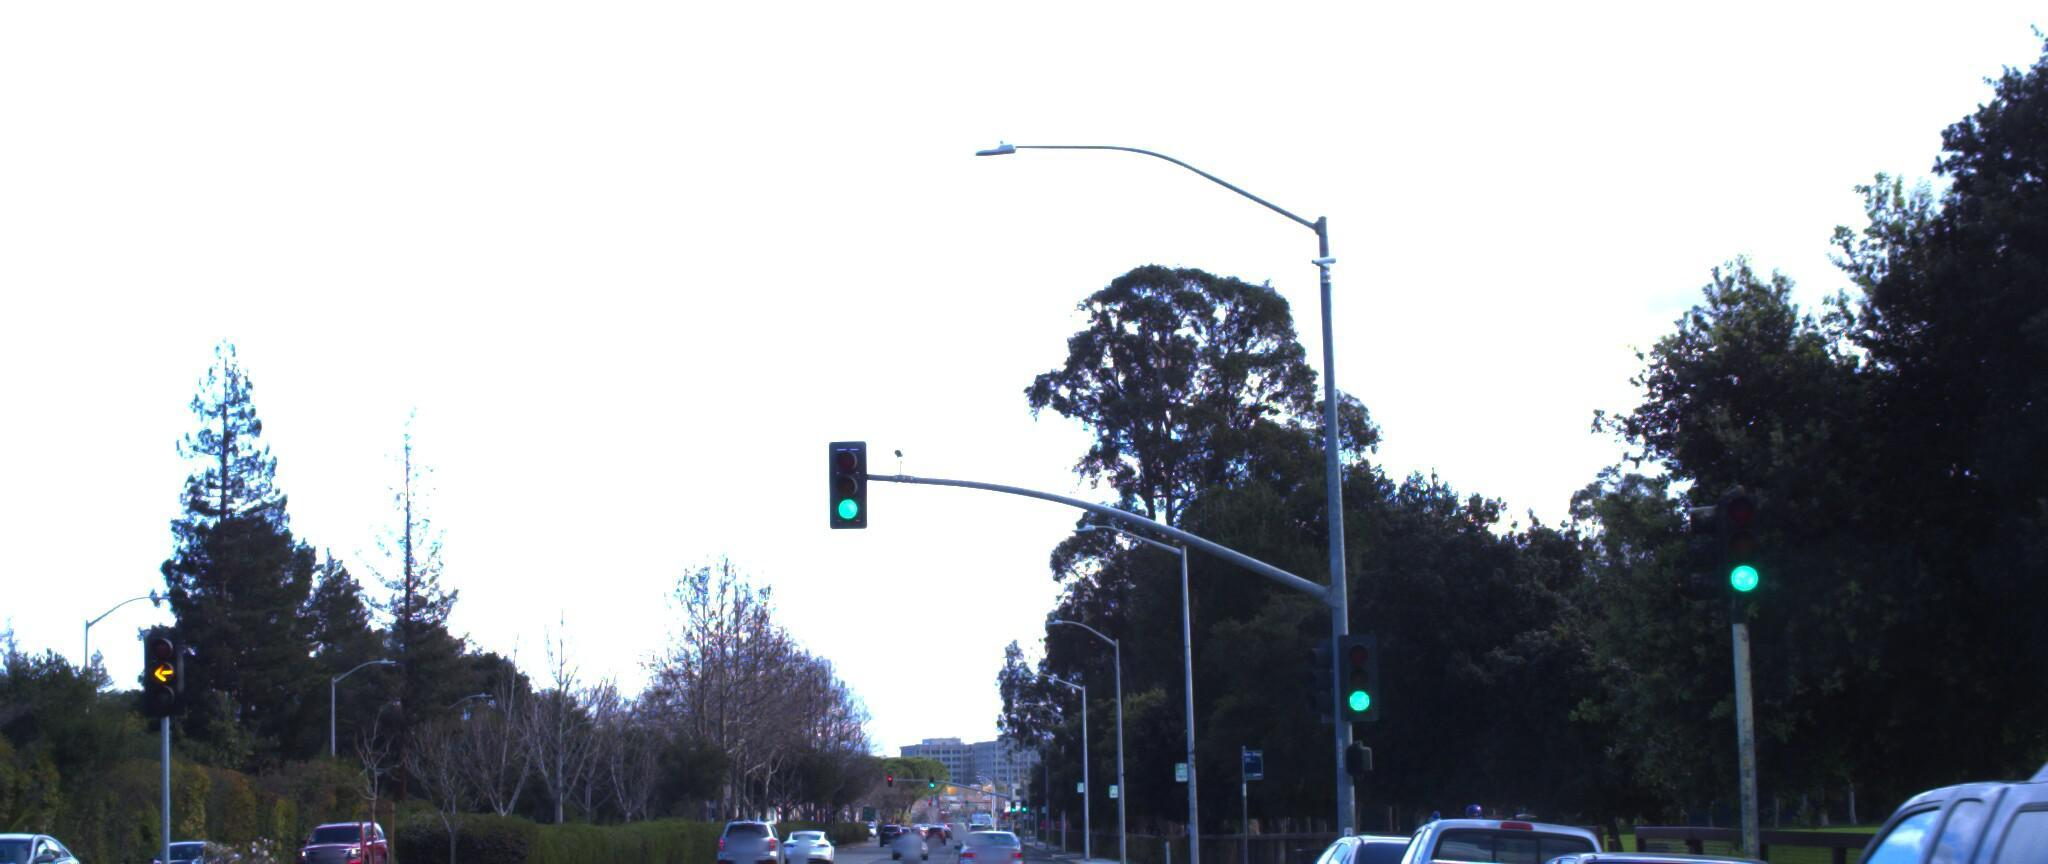car: (1691, 677, 2048, 864), (1351, 809, 1699, 864), (1437, 837, 1900, 864), (1263, 821, 1550, 864), (0, 807, 108, 864), (944, 817, 1014, 864)
